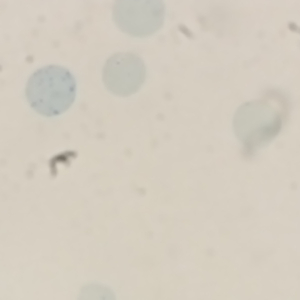erythrocyte: (230, 98, 285, 153)
punctate reticulocyte: (24, 64, 79, 119), (100, 50, 148, 98)
